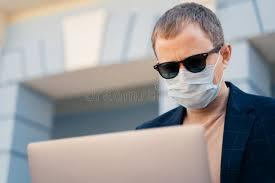mask: (154, 64, 223, 110)
sunglasses: (149, 50, 209, 82)
